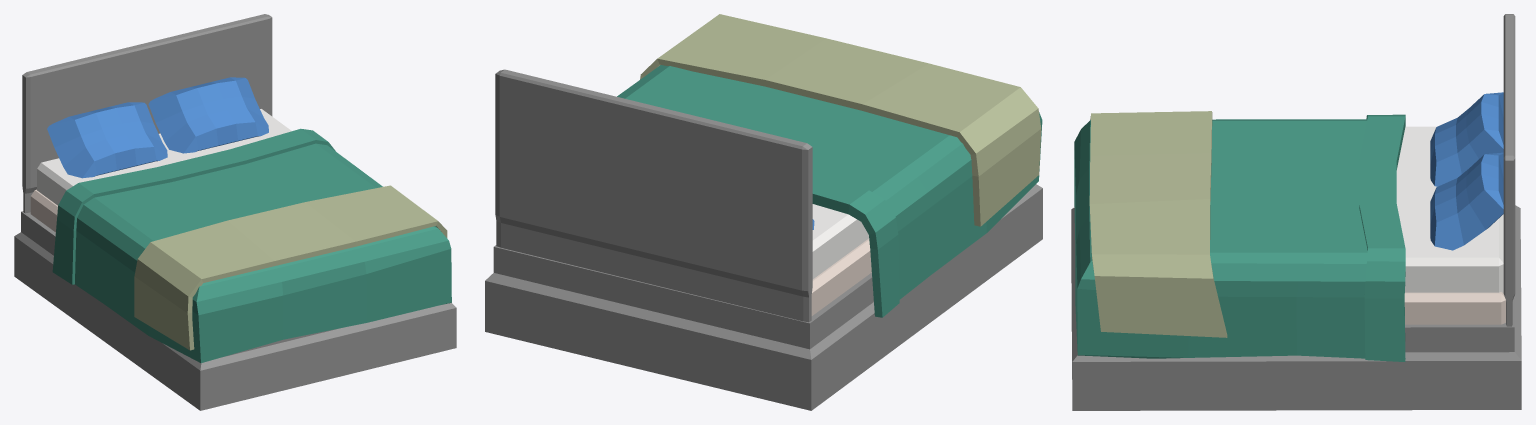
Rendered from Bed_4.fbx.
3 views of the same model, side by side, from view 1: azimuth 30°, elevation 25°; view 2: azimuth 150°, elevation 25°; view 3: azimuth 270°, elevation 25° (orthographic). The views are drawn at different scales.
Parts seen in each view (by area): view 1: Bed_4; view 2: Bed_4; view 3: Bed_4.
Boxes of the visible parts, x1,y1,x2,y2 form: Bed_4: [14, 14, 456, 410]; Bed_4: [485, 14, 1042, 410]; Bed_4: [1071, 14, 1521, 410].
Size of the model in its own units: 245 by 286 by 174.
